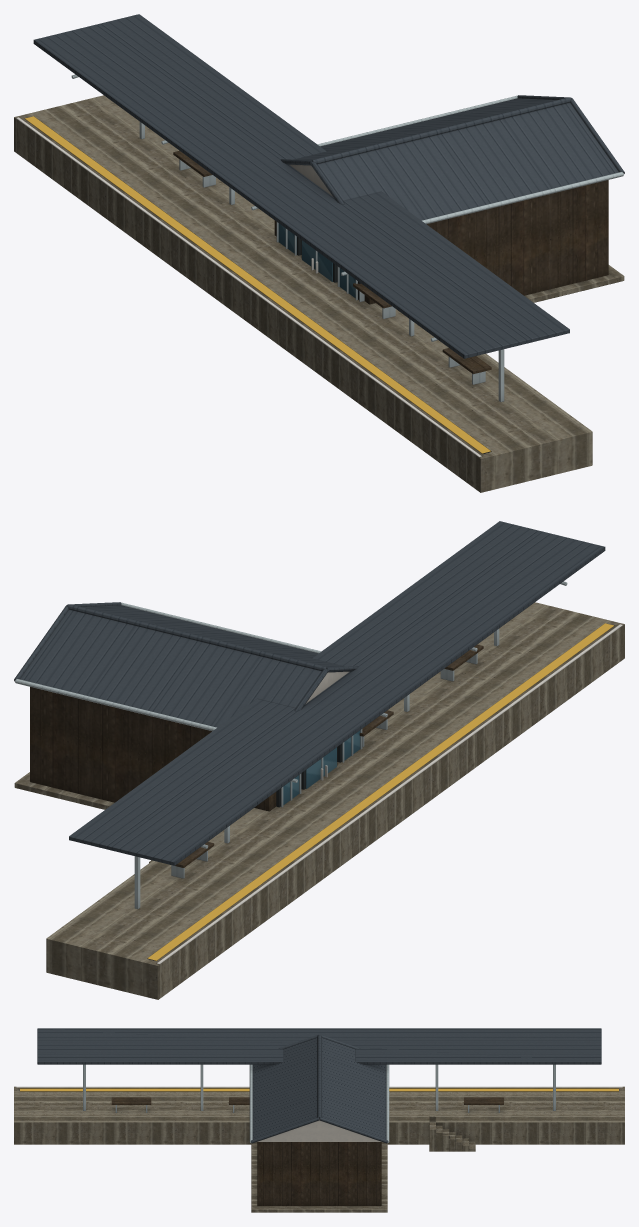
The model's file is station_001.obj.
3 renders of one model, top to bottom at view 1: azimuth 30°, elevation 25°; view 2: azimuth 150°, elevation 25°; view 3: azimuth 270°, elevation 25°, orthographic. The views are drawn at different scales.
Parts seen in each view (by area): view 1: station_001; view 2: station_001; view 3: station_001.
Boxes of the visible parts, box(x1,y1,x2,y2) form: station_001: box(14, 14, 624, 492); station_001: box(14, 521, 624, 999); station_001: box(14, 1028, 624, 1212).
Size of the model in its own units: 10.49 by 4.49 by 26.
Materials: 1 (1 with a texture image).
